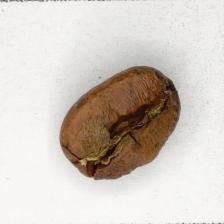NG: (86, 89, 165, 160)
